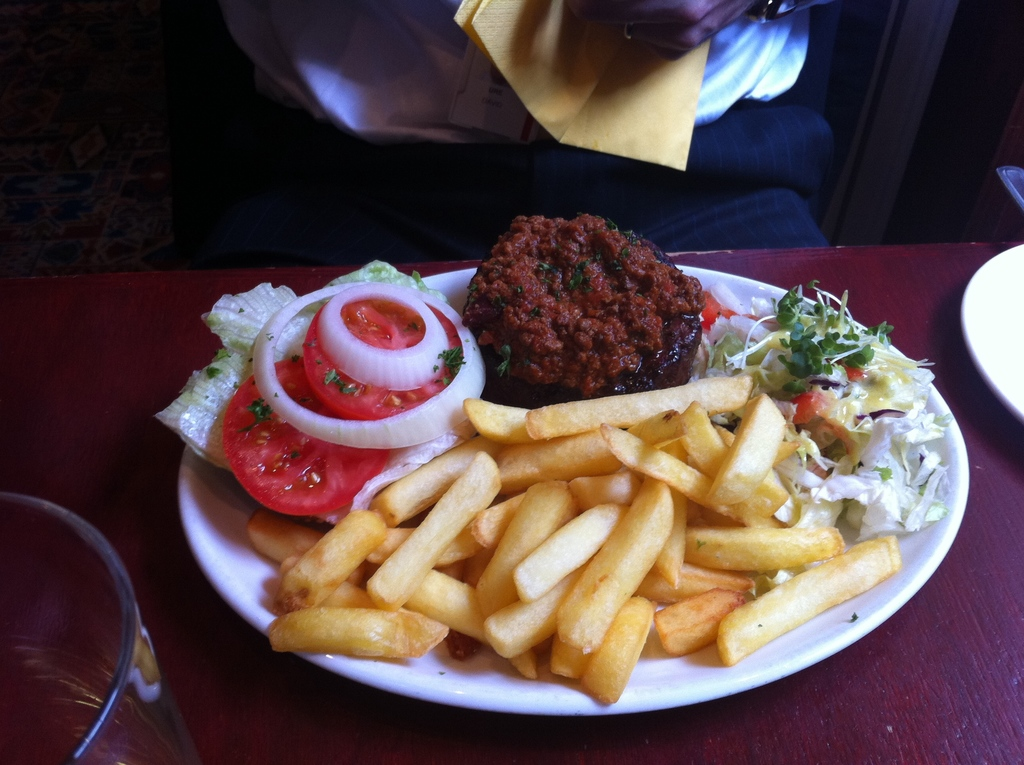french_fries: (244, 364, 911, 705)
